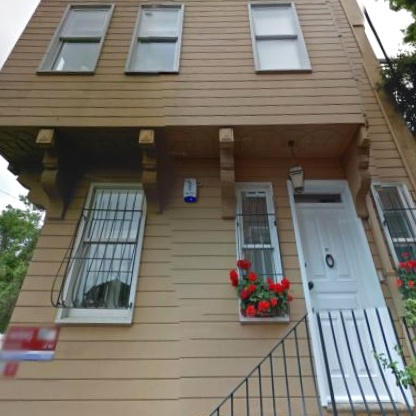door: (295, 205, 388, 392)
